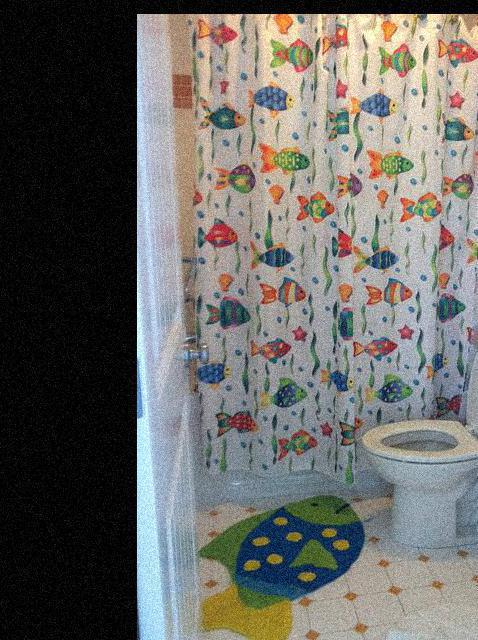Ducha: (176, 29, 478, 490)
Sanitario: (360, 319, 478, 552)
